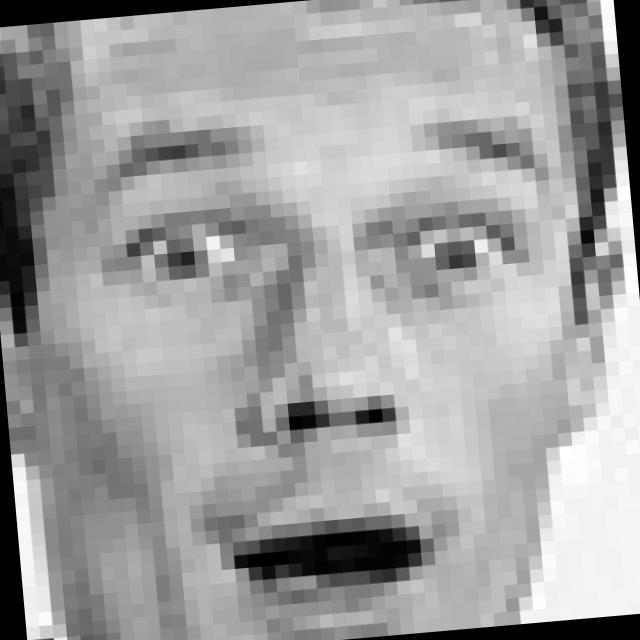surprise: (68, 91, 595, 630)
